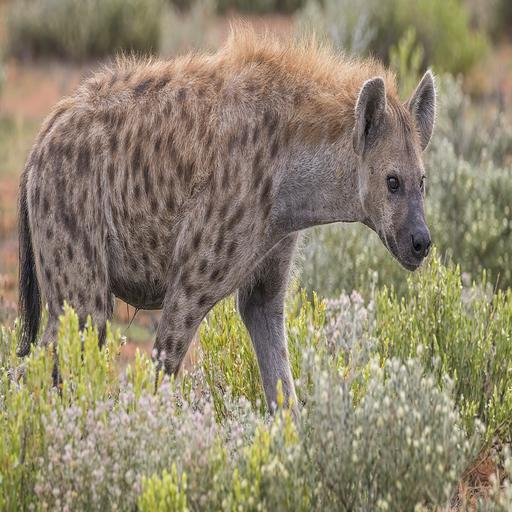Hyena: (12, 25, 443, 435)
